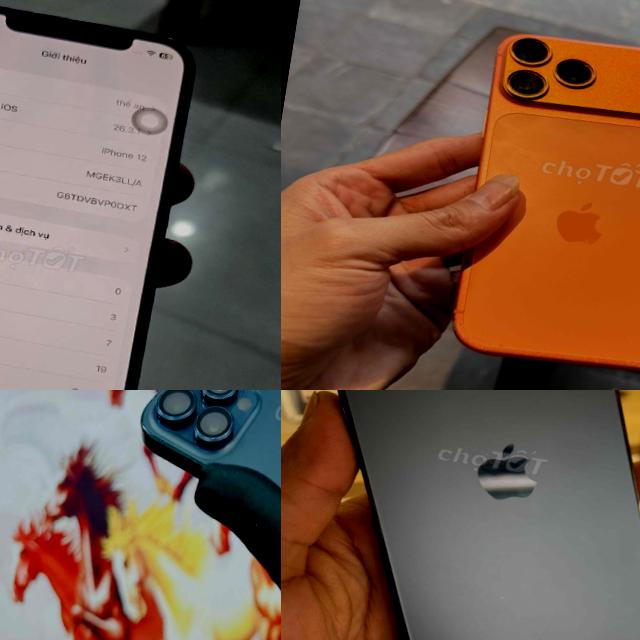gen_12_13: (281, 390, 640, 640), (0, 0, 203, 390)
gen_15: (115, 390, 281, 631)
gen_17: (444, 0, 640, 388)
